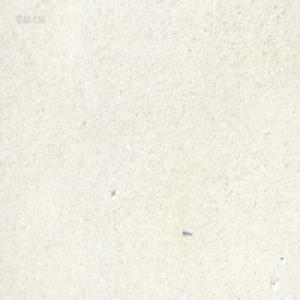Nail: (181, 229, 192, 236)
